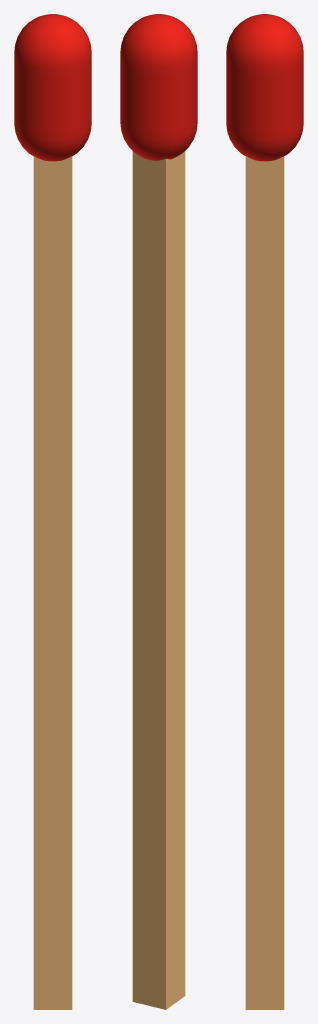
File: match.fbx
3 renders of one model, left to right at view 1: azimuth 90°, elevation 25°; view 2: azimuth 150°, elevation 25°; view 3: azimuth 270°, elevation 25°, orthographic.
Visible parts, largest first — view 1: 胶囊_1; view 2: 胶囊_1; view 3: 胶囊_1.
Boxes of the visible parts, x1,y1,x2,y2 form: 胶囊_1: (14, 14, 91, 1009); 胶囊_1: (120, 14, 197, 1009); 胶囊_1: (226, 14, 303, 1009).
Bounding box in the file's own units: 6 × 84.02 × 6.
